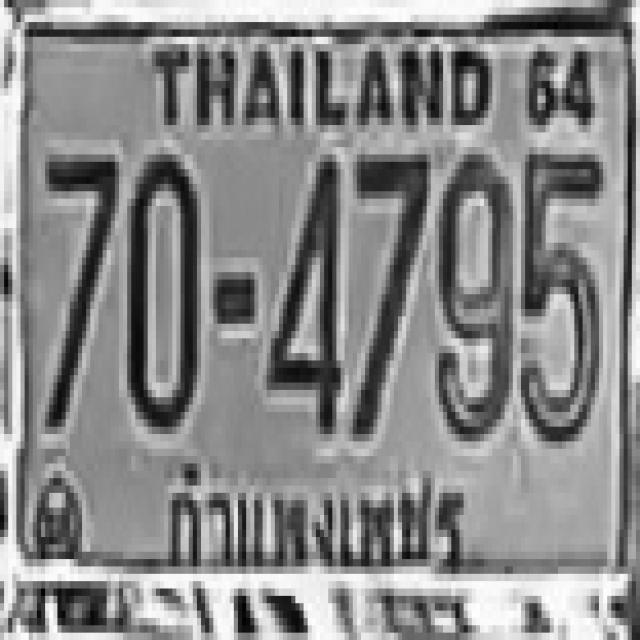0: (123, 147, 197, 427)
4: (264, 147, 338, 427)
5: (517, 147, 599, 442)
7: (352, 147, 427, 434), (45, 147, 115, 427)
9: (435, 147, 509, 434)
KamphaengPhet: (154, 446, 474, 602)
